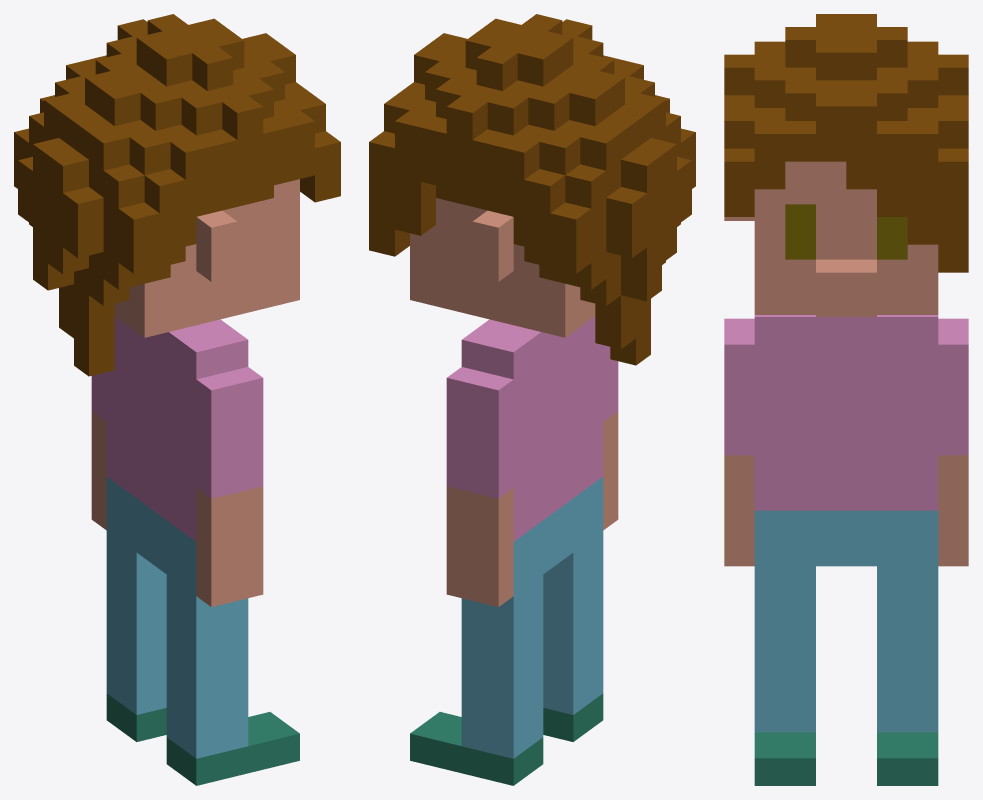
The model's file is Char12.gltf.
3 views of the same model, side by side, from view 1: azimuth 30°, elevation 25°; view 2: azimuth 150°, elevation 25°; view 3: azimuth 270°, elevation 25° (orthographic). The views are drawn at different scales.
Parts seen in each view (by area): view 1: HeadHair, Torso, LeftArm.High, LeftArm.Low, Left leg low, Left leg high, right leg low, Hip, Left foot, right leg high, Right Arm.Low, Right foot (+1 smaller); view 2: HeadHair, Torso, Right Arm.High, Right Arm.Low, right leg low, right leg high, Left leg low, Hip, Right foot, Left leg high, LeftArm.Low, Left foot (+1 smaller); view 3: HeadHair, Torso, Hip, Left leg low, Left leg high, right leg low, right leg high, LeftArm.High, Right Arm.High, LeftArm.Low, Right Arm.Low, Left foot (+1 smaller).
Part boxes in pixels (x1,y1,x2,y2): HeadHair: (14,14,340,376); Torso: (106,316,248,541); LeftArm.High: (196,367,263,498); LeftArm.Low: (196,486,263,606); Left leg low: (166,656,248,758); Left leg high: (166,575,248,677); right leg low: (106,612,166,714); Hip: (106,476,196,595); Left foot: (166,712,299,785); right leg high: (106,531,166,633); Right Arm.Low: (91,411,106,530); Right foot: (106,693,166,741); HeadHair: (369,14,695,365); Torso: (461,316,603,541); Right Arm.High: (446,367,513,498); Right Arm.Low: (446,486,513,606); right leg low: (461,656,543,758); right leg high: (461,575,543,677); Left leg low: (543,612,603,714); Hip: (513,476,603,595); Right foot: (410,712,543,785); Left leg high: (543,531,603,633); LeftArm.Low: (603,411,618,530); Left foot: (543,693,603,741); HeadHair: (724,14,968,316); Torso: (754,315,938,510); Hip: (754,510,938,566); Left leg low: (754,649,815,732); Left leg high: (754,566,815,649); right leg low: (877,649,938,732); right leg high: (877,566,938,649); LeftArm.High: (724,318,754,455); Right Arm.High: (938,318,968,455); LeftArm.Low: (724,455,754,566); Right Arm.Low: (938,455,968,566); Left foot: (754,732,815,785).
Size of the model in its own units: 9 by 26 by 8.
